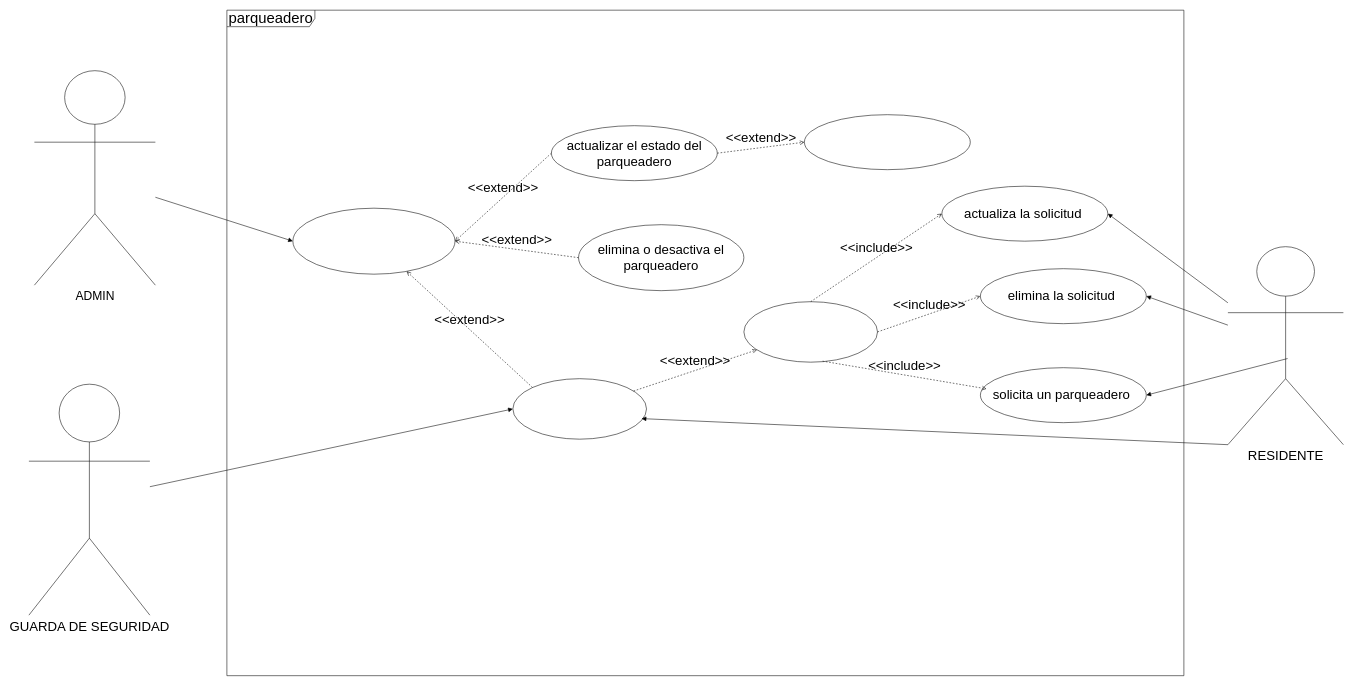
Some shapes in this 1353 by 685 pixel diagram are drawn without their labels. Here are the shapes that lost their labels. From the top down, the centre of each, then its label:
[887,142]: actualizar el estado de la solicitud
[373,241]: Gestión parqueaderos
[810,331]: se necesita el id de cada parqueadero
[579,408]: consultar el parqueadero
